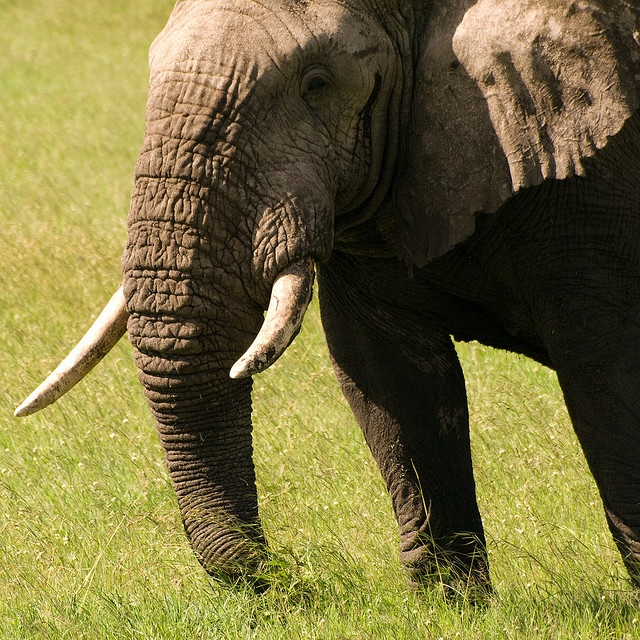elephant: (12, 1, 640, 623)
